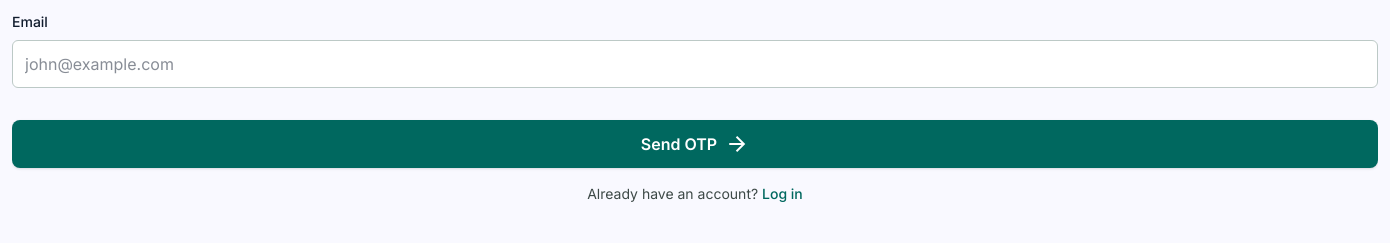
Test case: Phase 3 — Frontend Foundation & Auth UI Tests › SendOtpForm blocks invalid email without submitting and navigates with email state on success
Click the button "Send OTP". click: (695, 144)
box: [12, 120, 1378, 168]
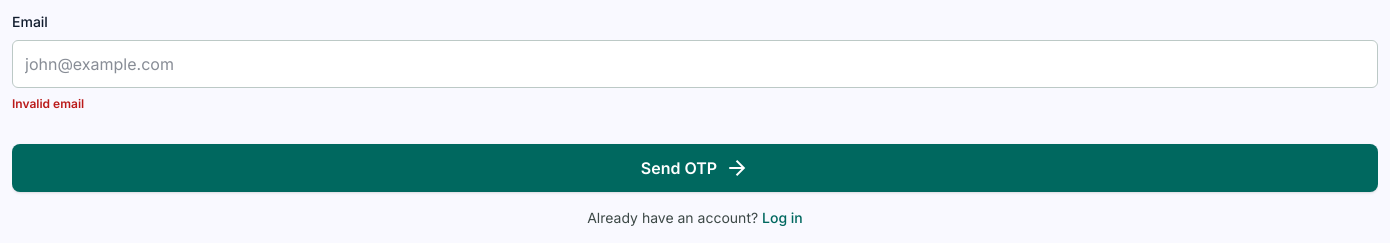
Check: the text "Invalid email" is shown, box [12, 96, 84, 111]
Type "alice@example.com" into the field labelled "Email". click: (695, 64)
box: [12, 40, 1378, 88]
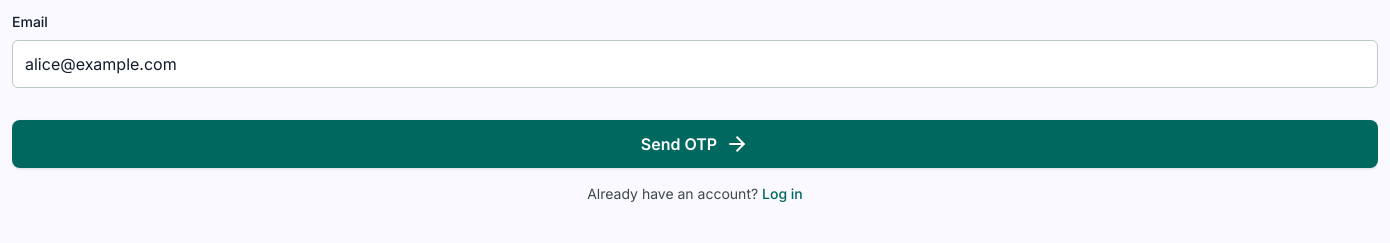
Click the button "Send OTP". click: (695, 144)
box: [12, 120, 1378, 168]
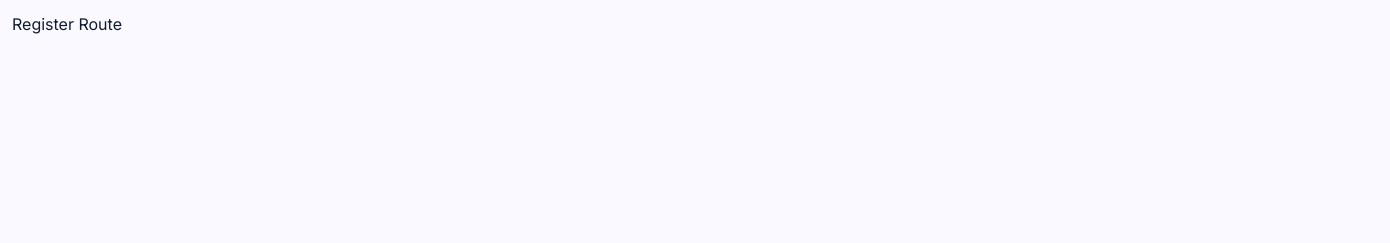
Check: the text "Register Route" is shown, box [12, 14, 122, 34]
